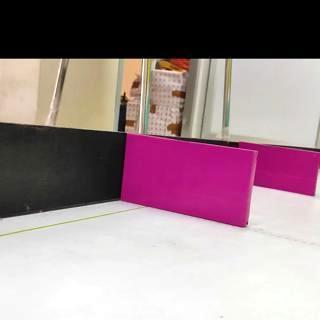xparking: (129, 152, 250, 215), (261, 155, 320, 192)
